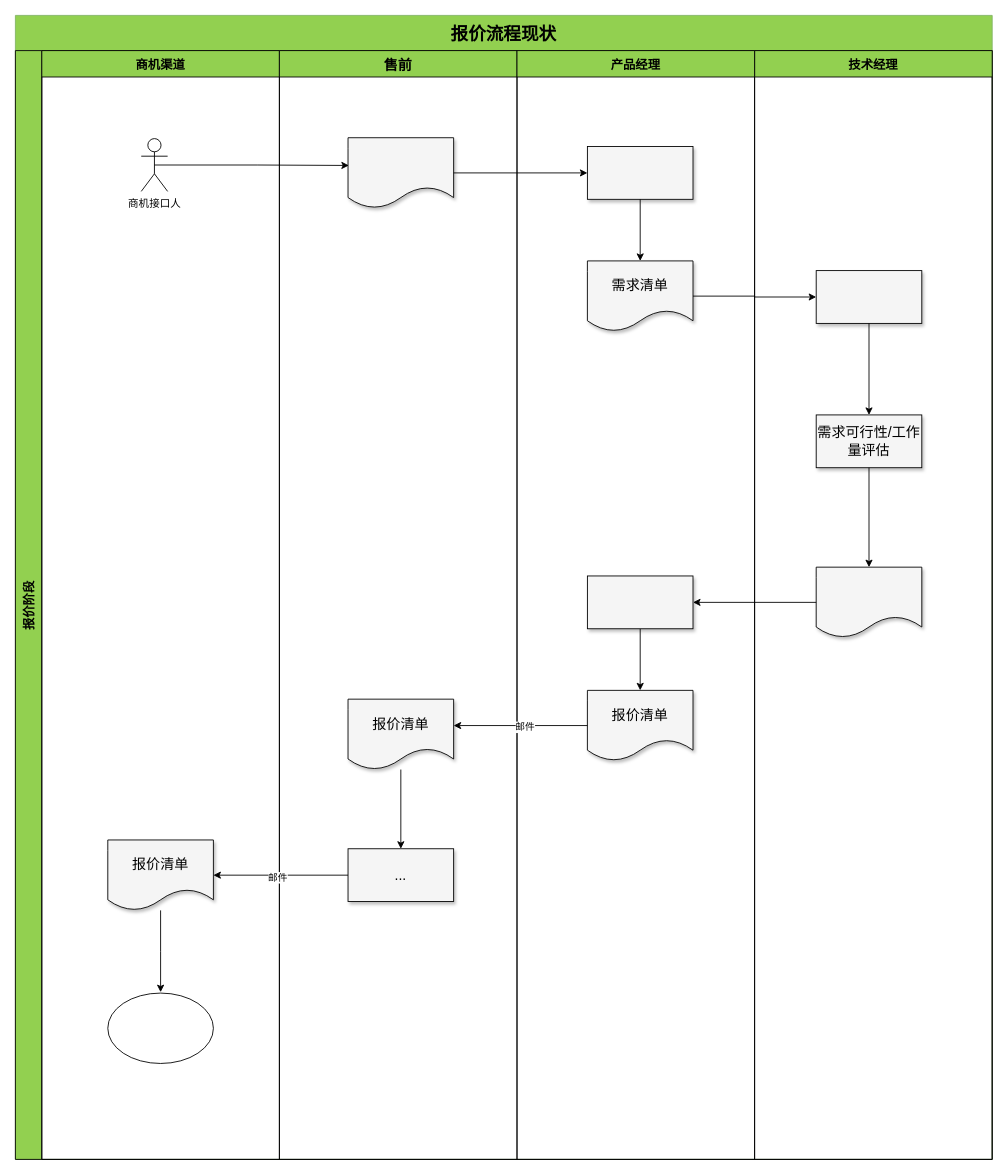
Image size: 1008x1175. Some labels were removed from this diagram. Here are the shapes that lost their labels. From the top down, the centre of each, then its label:
At (401,173): "招标文件/建设方案/需求清单".
At (640,173): "需求梳理".
At (869,298): "指定技术经理".
At (640,603): "ABCDE拆分".
At (869,603): "研发工作量清单".
At (160,1027): "结束".
